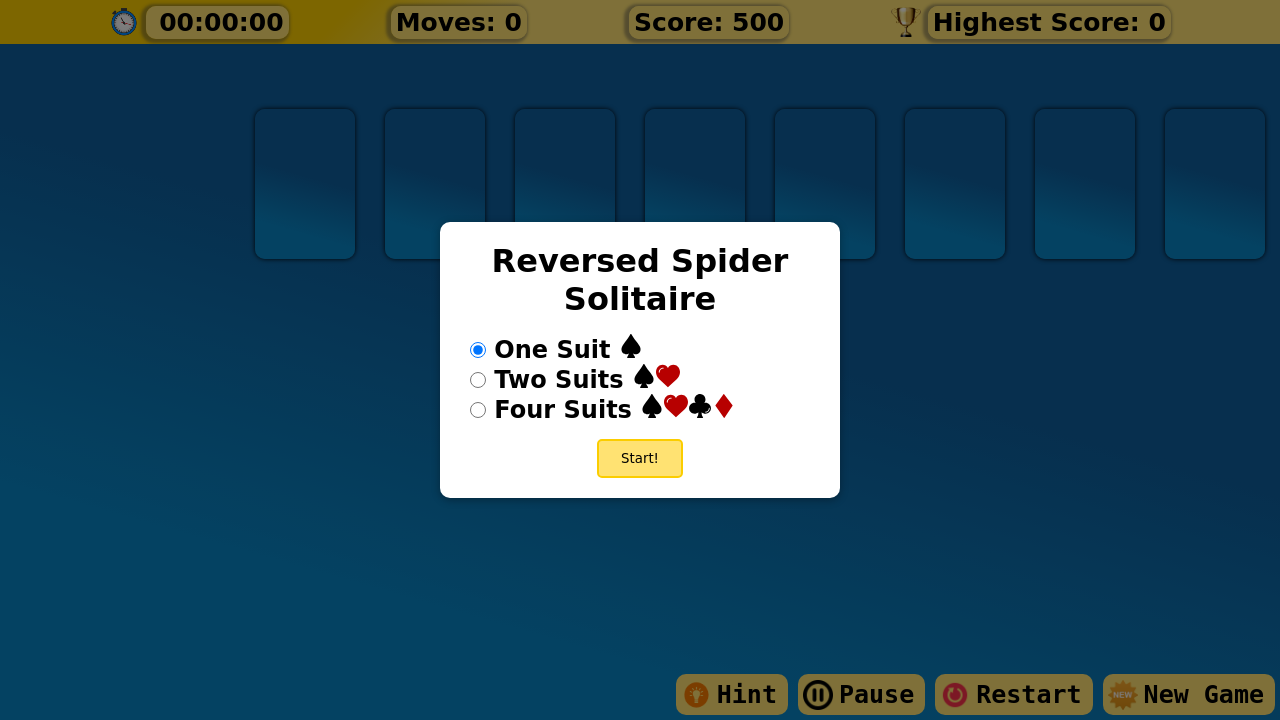
Scenario: piles-tests › should select first card
Click the button with class "button--newGame".
click(640, 459)  # box [597,439,683,478]
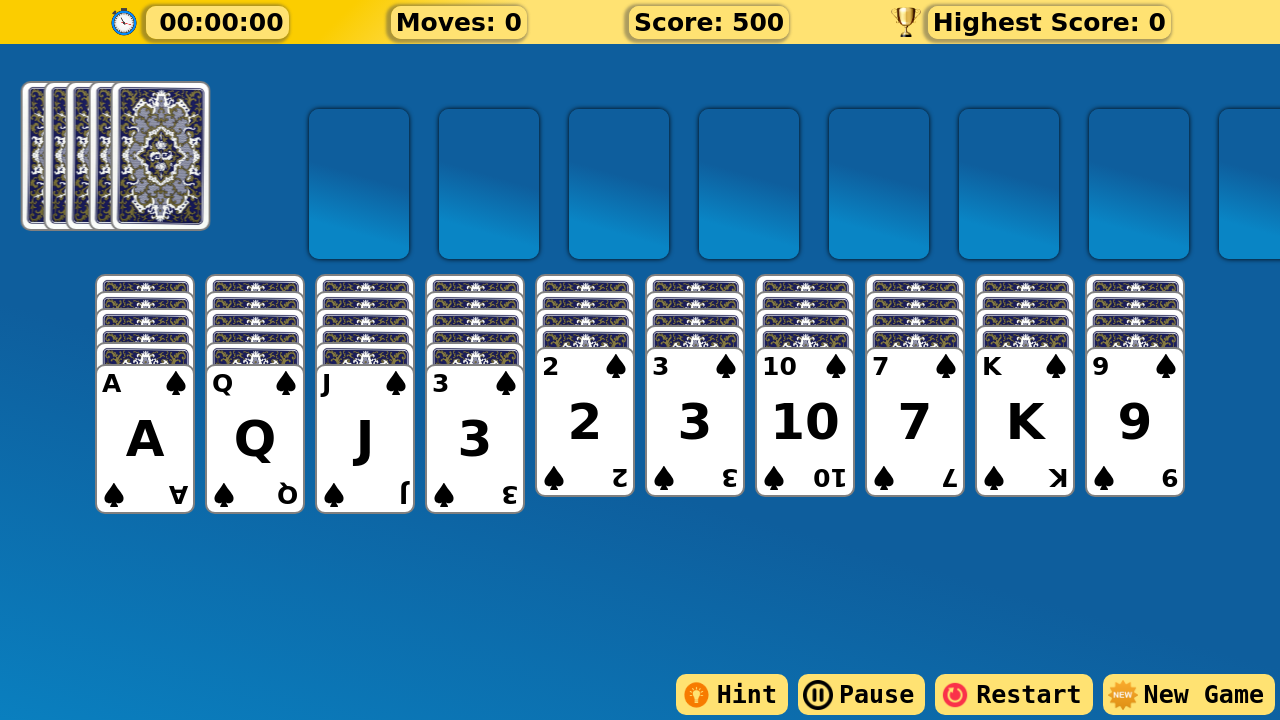
Scroll
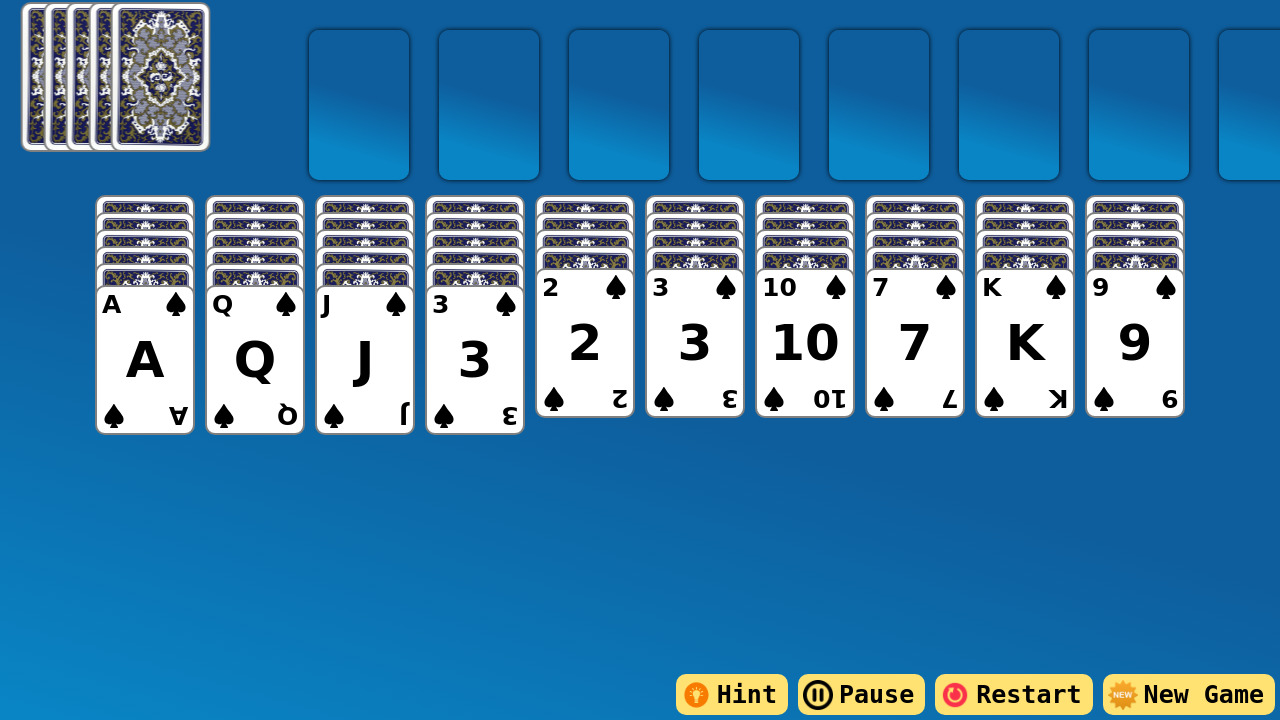
Click the element with class "flipper-wrap--reversed".
click(145, 360)  # box [90,285,200,435]
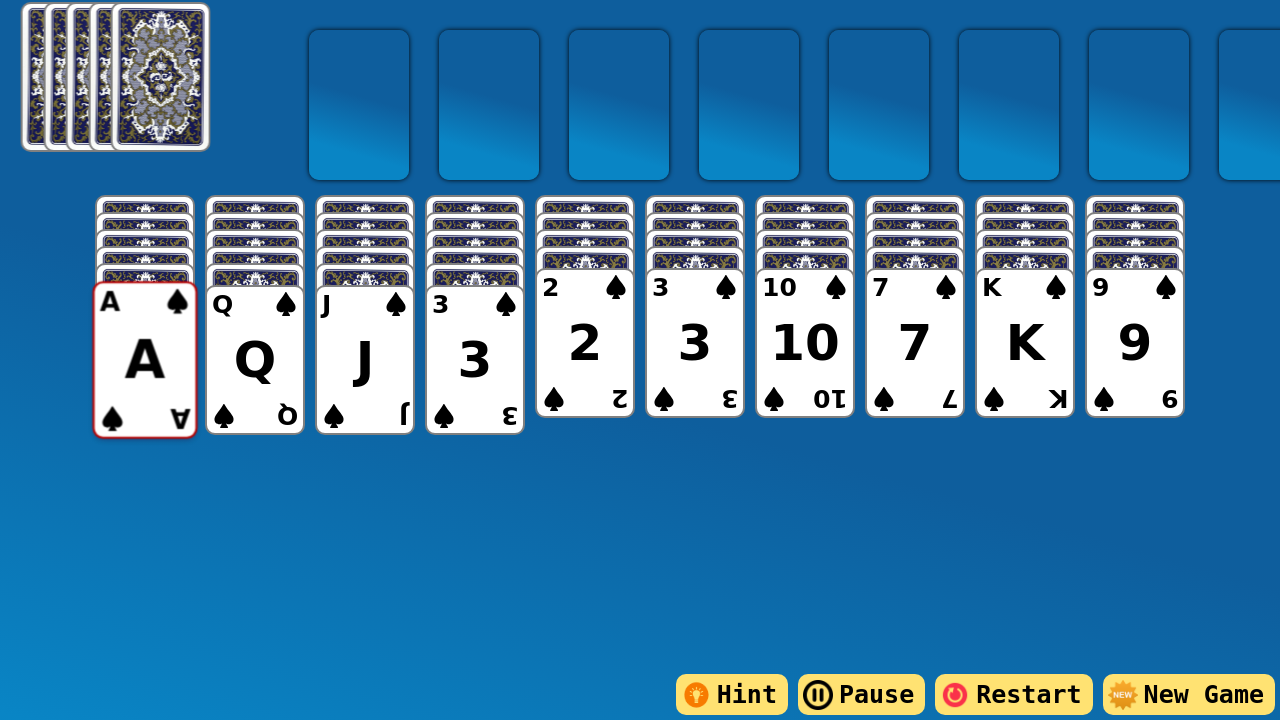
Expected: the element with class "card--selected" is shown, [93,281,198,439]
